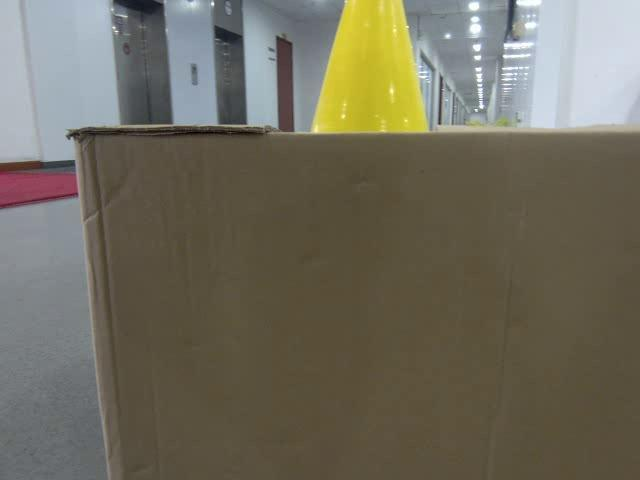yellow_barrel: (308, 0, 435, 134)
